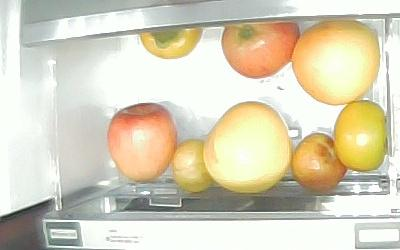apple: (106, 102, 177, 182), (220, 21, 300, 78)
grapefruit: (201, 100, 291, 194), (290, 20, 380, 106)
persimmon: (333, 100, 387, 170), (138, 28, 202, 59)
prune: (292, 131, 347, 191), (172, 139, 211, 193)
